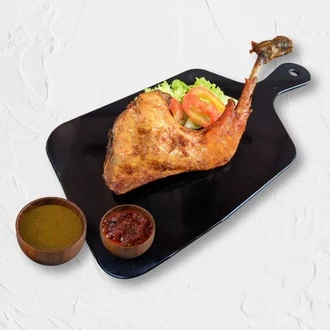ayam_goreng: (94, 31, 293, 192)
